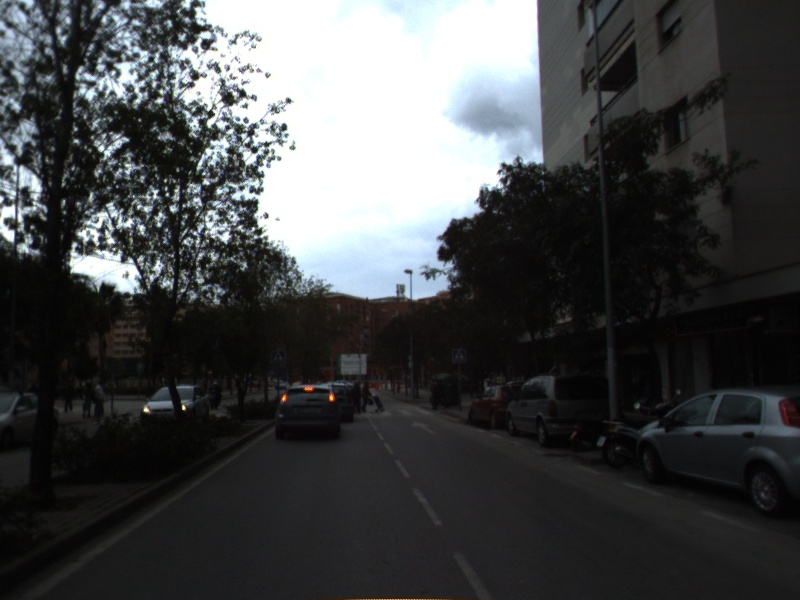STRAIGHT: (409, 419, 439, 437)
